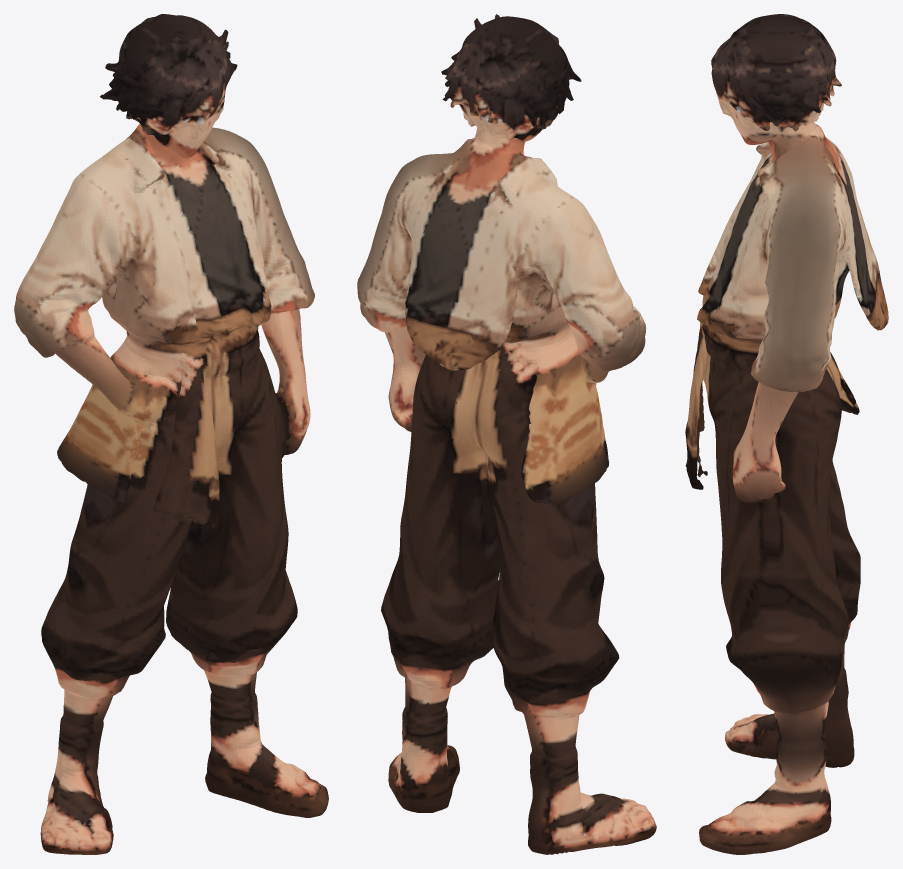
The model's file is Traveler-Colored.glb.
3 views of the same model, side by side, from view 1: azimuth 30°, elevation 25°; view 2: azimuth 150°, elevation 25°; view 3: azimuth 270°, elevation 25° (orthographic). The views are drawn at different scales.
Visible parts, largest first — view 1: tmps7yjby8s.ply; view 2: tmps7yjby8s.ply; view 3: tmps7yjby8s.ply.
Part boxes in pixels (x1=…): tmps7yjby8s.ply: x1=14, y1=14, x2=328, y2=854; tmps7yjby8s.ply: x1=357, y1=14, x2=656, y2=854; tmps7yjby8s.ply: x1=685, y1=14, x2=888, y2=854.
Bounding box in the file's own units: 0.7321 × 1.96 × 0.466.
